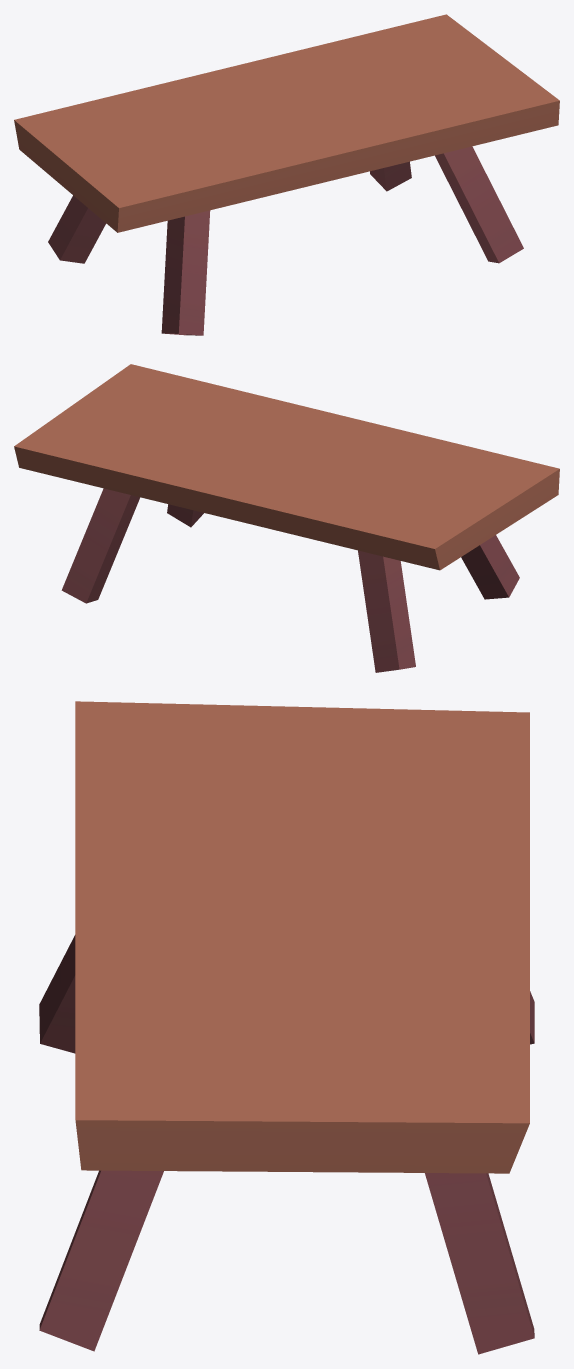
The model's file is Picnic_Table.obj.
3 views of the same model, one above another, from view 1: azimuth 30°, elevation 25°; view 2: azimuth 150°, elevation 25°; view 3: azimuth 270°, elevation 25° (orthographic). The views are drawn at different scales.
Parts seen in each view (by area): view 1: {mesh}Picnic_Table_Cube.005; view 2: {mesh}Picnic_Table_Cube.005; view 3: {mesh}Picnic_Table_Cube.005.
Boxes of the visible parts, bbox=[...] form: {mesh}Picnic_Table_Cube.005: bbox=[14, 14, 559, 335]; {mesh}Picnic_Table_Cube.005: bbox=[14, 364, 559, 672]; {mesh}Picnic_Table_Cube.005: bbox=[39, 701, 534, 1354].
Size of the model in its own units: 79.09 by 25.46 by 39.24.
